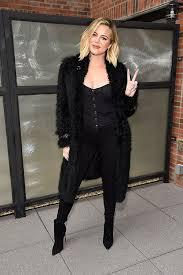Person: (52, 14, 139, 255)
